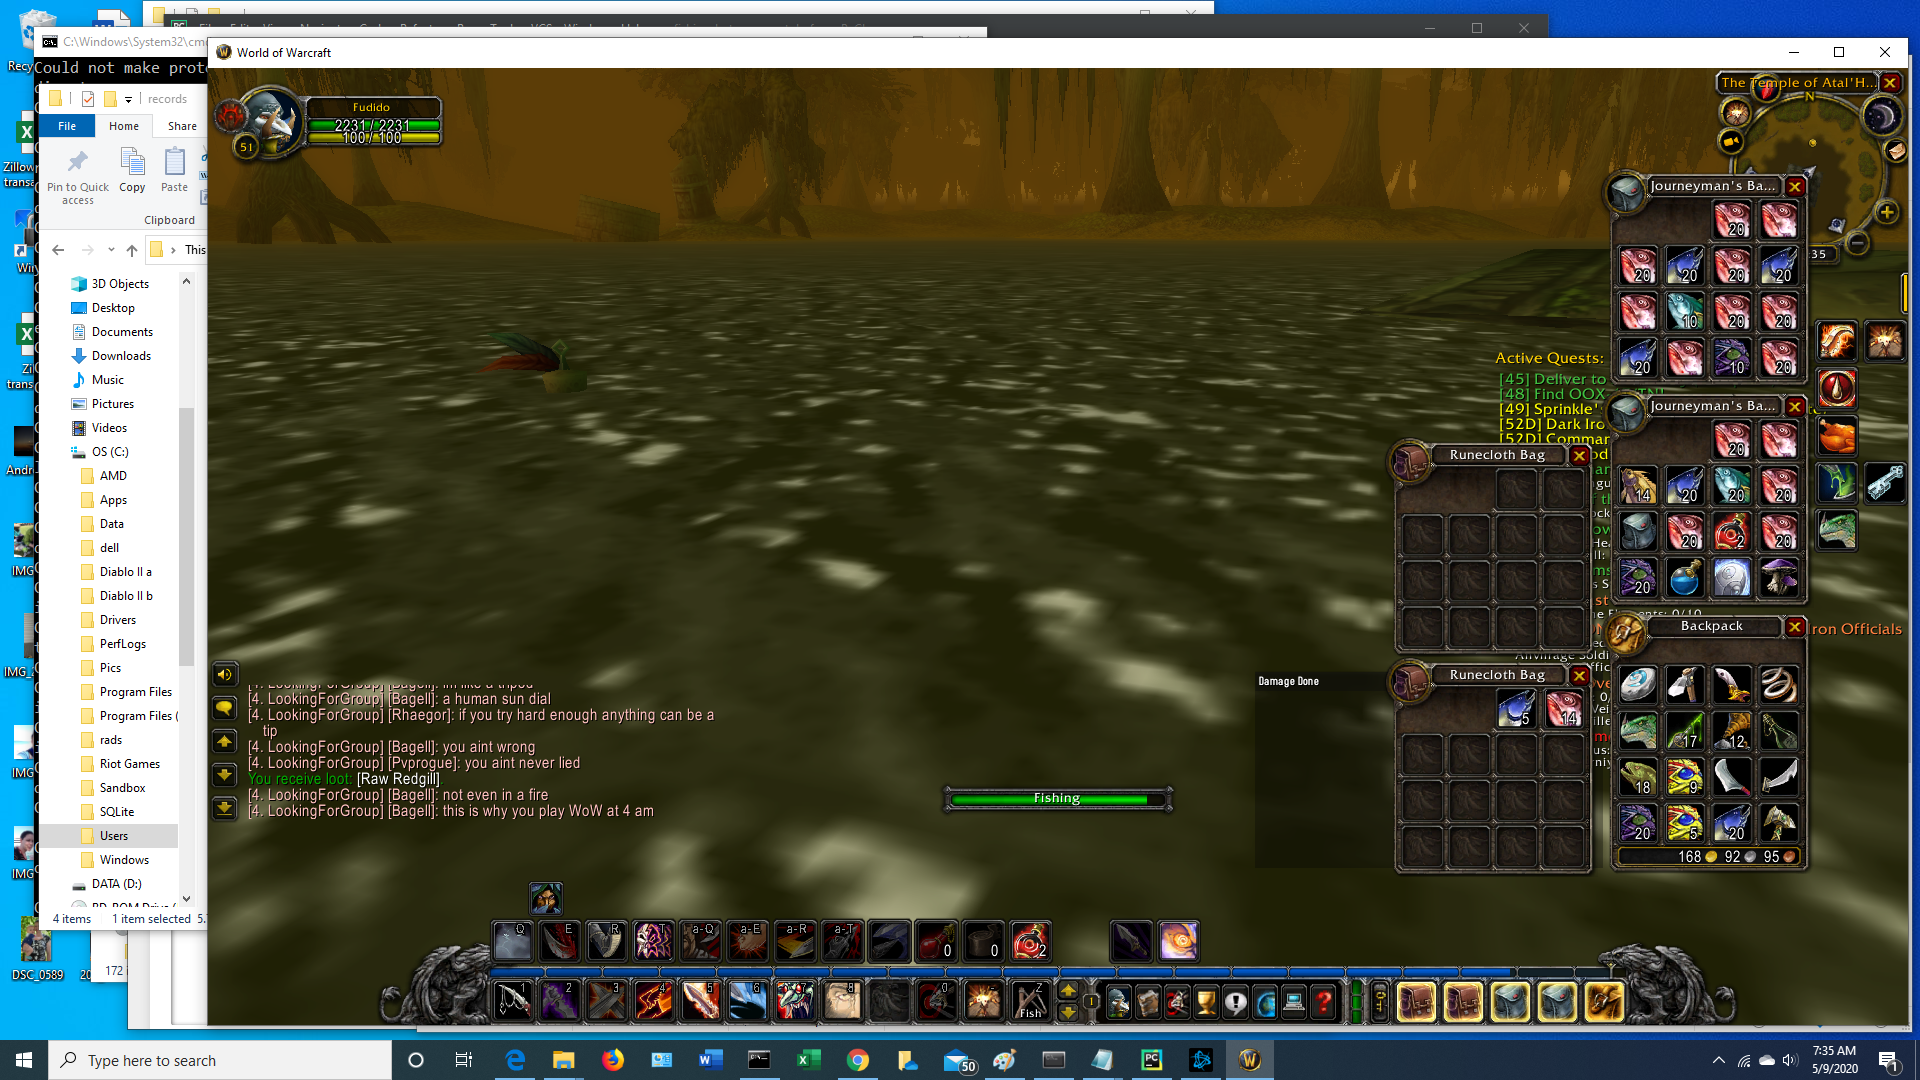bobber: (477, 322, 592, 402)
